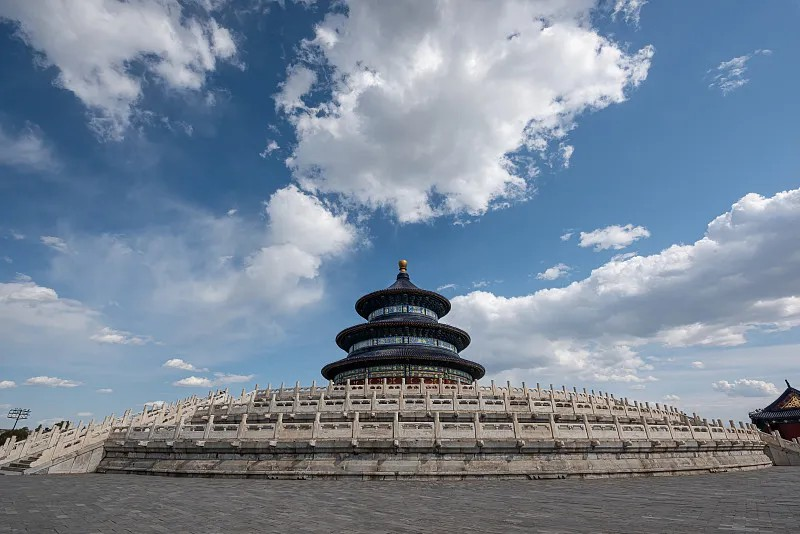Heaven: (320, 259, 485, 390)
